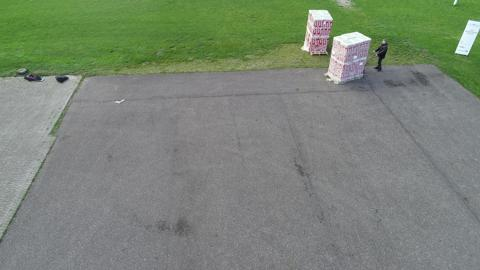RockwoolPallet: (306, 8, 332, 56)
